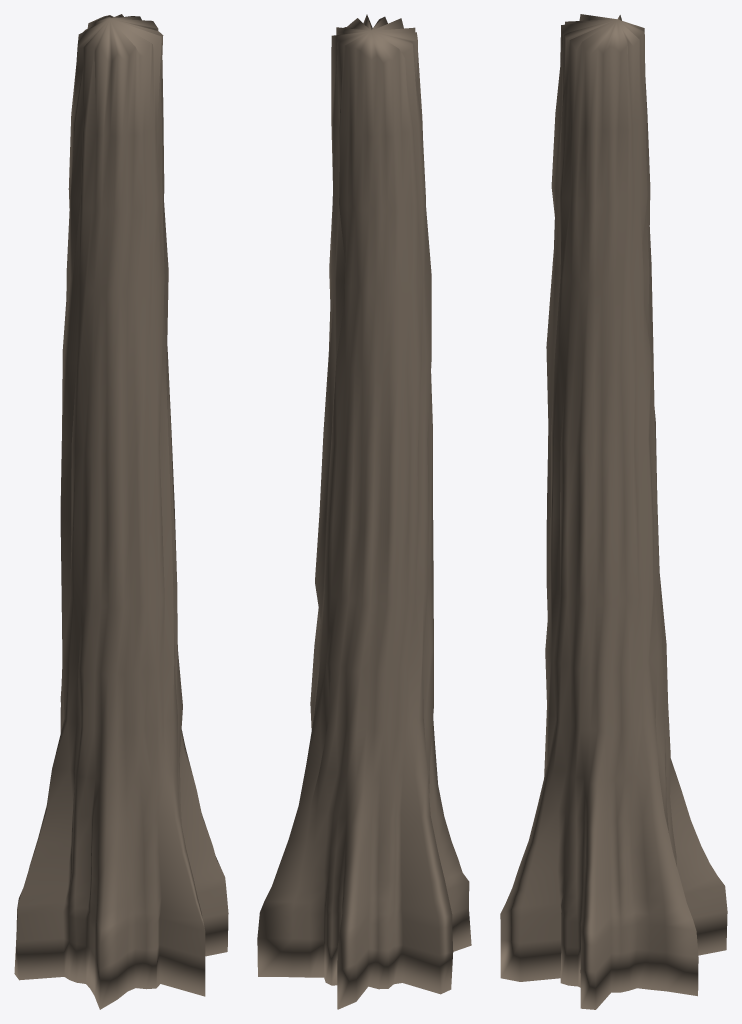
File: trunk-green.glb
3 views of the same model, side by side, from view 1: azimuth 30°, elevation 25°; view 2: azimuth 150°, elevation 25°; view 3: azimuth 270°, elevation 25° (orthographic).
Visible parts, largest first — view 1: trunk-green; view 2: trunk-green; view 3: trunk-green.
Part boxes in pixels (x1=…): trunk-green: x1=14, y1=14, x2=228, y2=1009; trunk-green: x1=257, y1=14, x2=471, y2=1009; trunk-green: x1=500, y1=14, x2=727, y2=1009.
Bounding box in the file's own units: 0.5004 × 2.35 × 0.5135.
